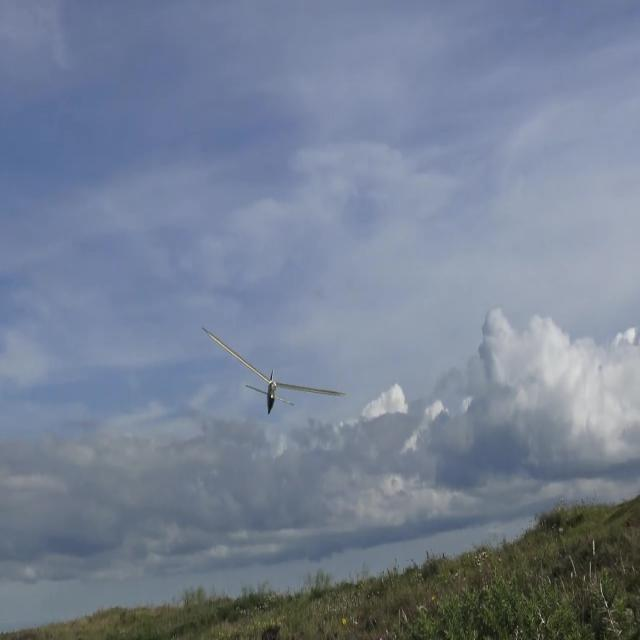iha: (201, 356, 347, 382)
